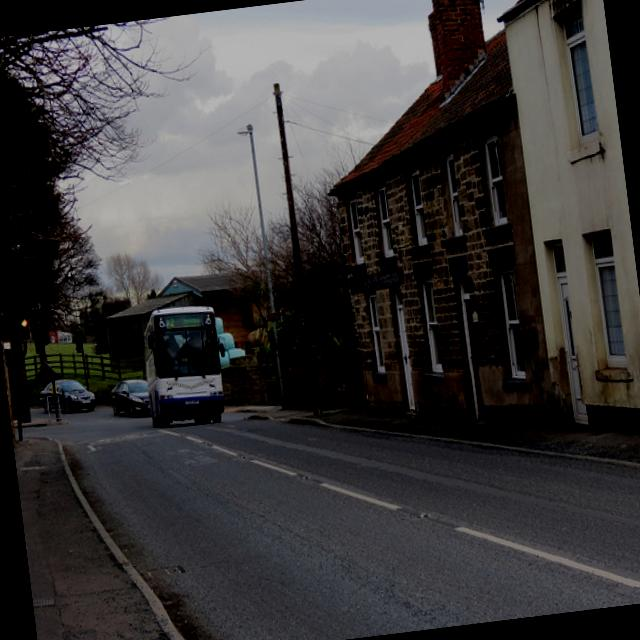Vehicle: (138, 302, 227, 429), (39, 376, 97, 417), (107, 378, 151, 420)
